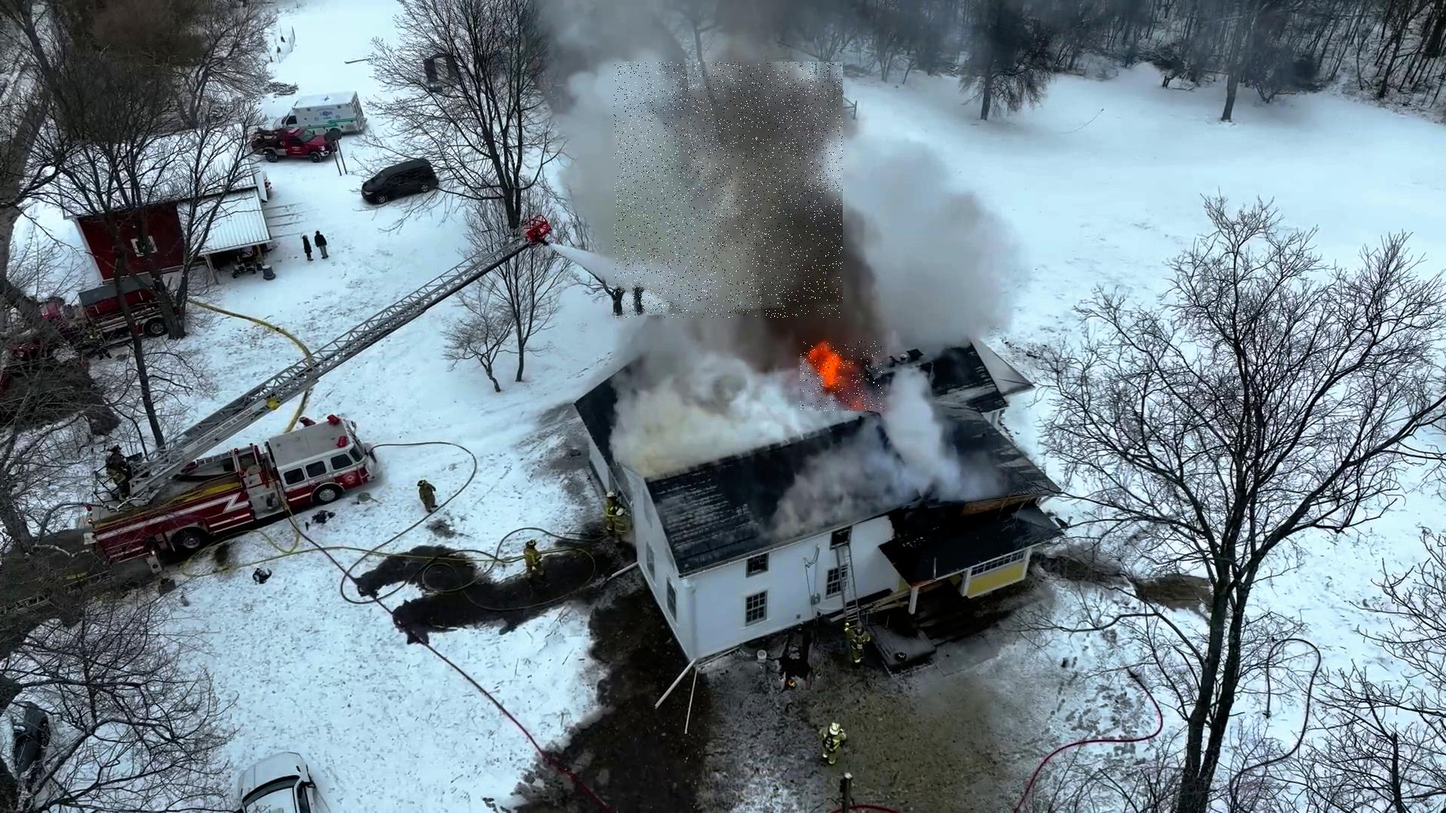fire: (801, 341, 885, 411)
smoke: (614, 62, 843, 318)
